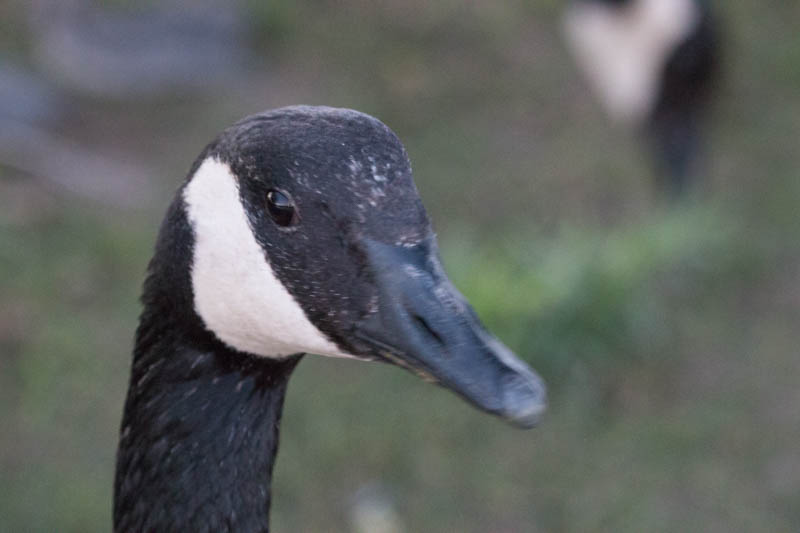goose-head: (137, 103, 550, 432)
